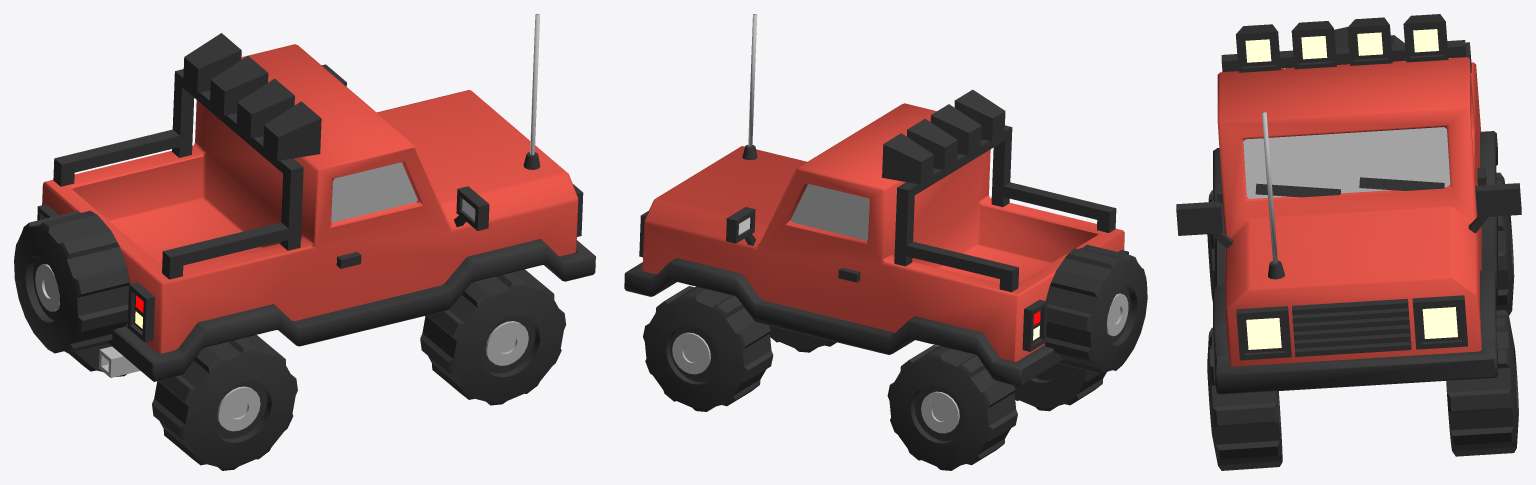
The picture shows the model from 3 angles, left to right: view 1: azimuth 30°, elevation 25°; view 2: azimuth 150°, elevation 25°; view 3: azimuth 270°, elevation 25°; orthographic projection. The views are drawn at different scales.
Parts seen in each view (by area): view 1: shadeRed_002, shadeBlack_022, shadeBlack_017, shadeBlack_019, shadeBlack_018, shadeBlack_009, shadeWhite.001, shadeBlack_015, shadeBlack_013, shadeBlack_010, shadeBlack_014, shadeWhite_011 (+6 smaller); view 2: shadeRed_002, shadeBlack_022, shadeBlack_003.002, shadeBlack_003, shadeBlack_019, shadeBlack_009, shadeWhite.001, shadeBlack_018, shadeBlack_010, shadeBlack_014, shadeBlack_015, shadeBlack_013 (+7 smaller); view 3: shadeRed_002, shadeBlack_022, shadeWhite.001, shadeBlack_003.002, shadeBlack_008, shadeBlack_017, shadeBlack_007, shadeBlack_002, shadeBlack_011, shadeBlack_023, shadeBlack_003, shadeBlack_009 (+15 smaller).
Boxes of the visible parts, bbox=[...] form: shadeRed_002: bbox=[42, 44, 578, 353]; shadeBlack_022: bbox=[108, 239, 595, 381]; shadeBlack_017: bbox=[420, 269, 566, 405]; shadeBlack_019: bbox=[14, 210, 129, 353]; shadeBlack_018: bbox=[152, 335, 297, 470]; shadeBlack_009: bbox=[53, 69, 303, 279]; shadeWhite.001: bbox=[331, 162, 417, 222]; shadeBlack_015: bbox=[263, 101, 321, 160]; shadeBlack_013: bbox=[210, 56, 268, 115]; shadeBlack_010: bbox=[183, 33, 241, 92]; shadeBlack_014: bbox=[236, 78, 294, 138]; shadeWhite_011: bbox=[485, 321, 528, 365]; shadeRed_002: bbox=[642, 103, 1124, 361]; shadeBlack_022: bbox=[624, 258, 1062, 386]; shadeBlack_003.002: bbox=[643, 286, 773, 411]; shadeBlack_003: bbox=[887, 345, 1017, 470]; shadeBlack_019: bbox=[1045, 244, 1147, 374]; shadeBlack_009: bbox=[894, 125, 1116, 292]; shadeWhite.001: bbox=[790, 184, 869, 240]; shadeBlack_018: bbox=[1014, 363, 1106, 411]; shadeBlack_010: bbox=[882, 133, 933, 184]; shadeBlack_014: bbox=[930, 104, 981, 155]; shadeBlack_015: bbox=[954, 89, 1005, 140]; shadeBlack_013: bbox=[907, 118, 957, 170]; shadeRed_002: bbox=[1217, 57, 1481, 366]; shadeBlack_022: bbox=[1213, 131, 1497, 394]; shadeWhite.001: bbox=[1243, 127, 1450, 198]; shadeBlack_003.002: bbox=[1446, 310, 1518, 456]; shadeBlack_008: bbox=[1292, 298, 1411, 356]; shadeBlack_017: bbox=[1207, 327, 1282, 470]; shadeBlack_007: bbox=[1236, 306, 1291, 360]; shadeBlack_002: bbox=[1412, 295, 1467, 349]; shadeBlack_011: bbox=[1468, 183, 1521, 233]; shadeBlack_023: bbox=[1176, 201, 1232, 248]; shadeBlack_003: bbox=[1496, 172, 1514, 315]; shadeBlack_009: bbox=[1221, 40, 1471, 72].
Size of the model in its own units: 2.03 by 1.43 by 1.18.
